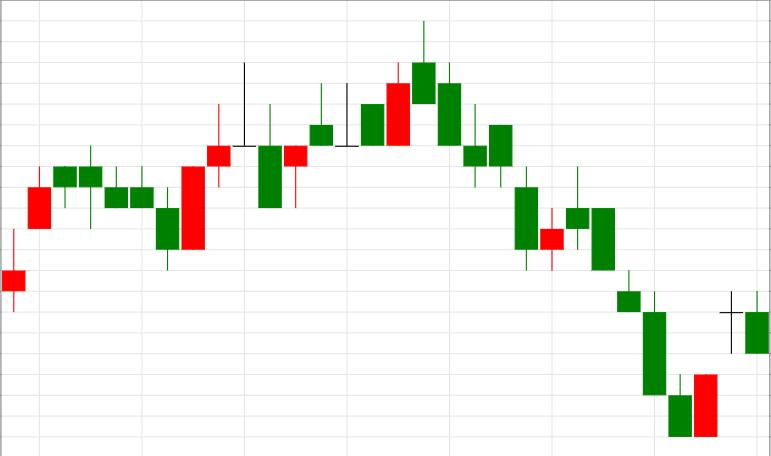bullish_engulfing_rise: (566, 165, 718, 437)
